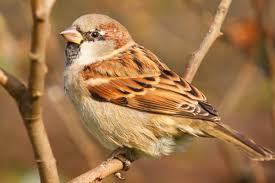hsparrow: (57, 9, 275, 173)
